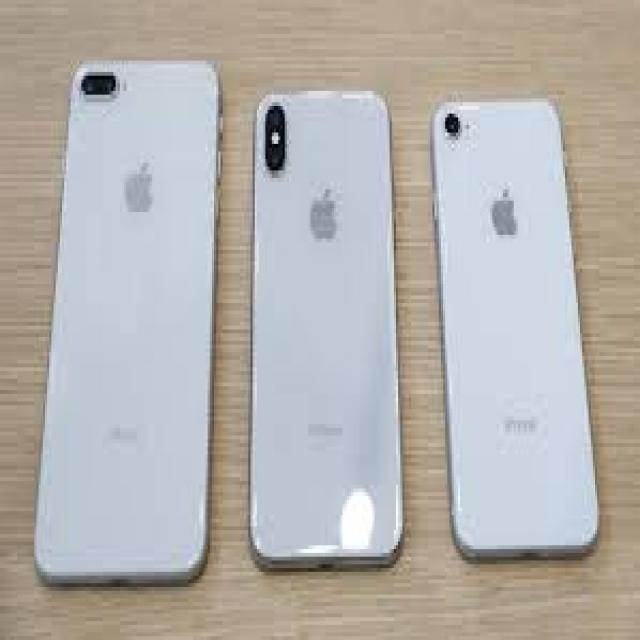phone: (46, 57, 221, 583), (247, 91, 403, 572)
